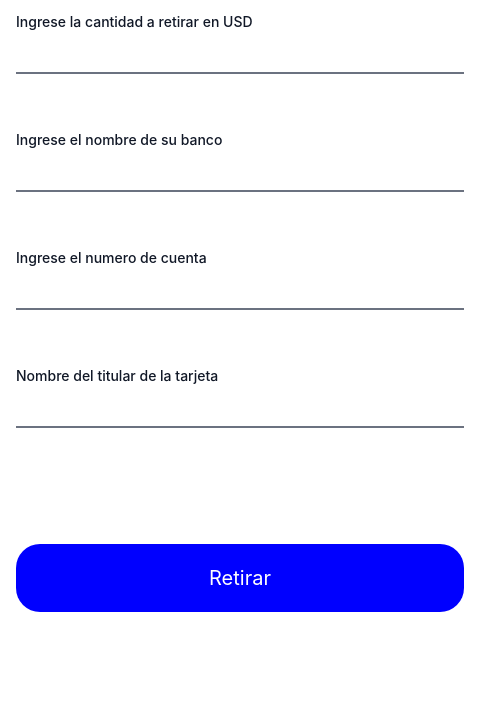
Test: WithdrawalForm › validates fields correctly when empty
This screenshot has width=481, height=709.
(page scrolled)
Click the button "Retirar".
click(240, 578)  # box [16,544,464,612]
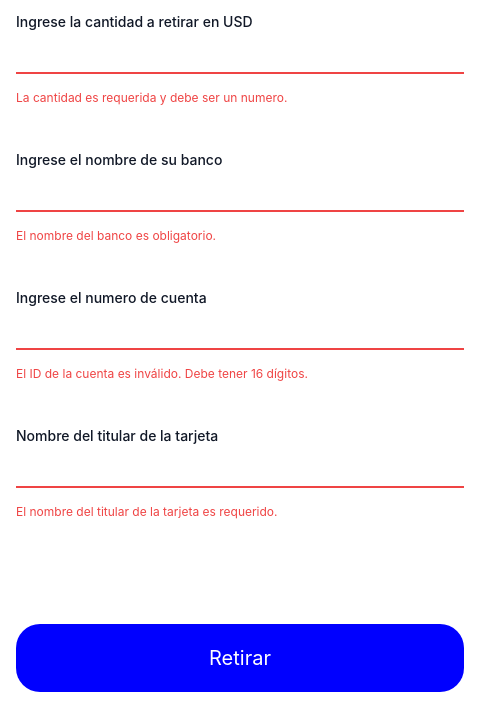
expect the text "La cantidad es requerida y debe ser un numero." is shown: met, box [16,90,287,105]
expect the text "El nombre del banco es obligatorio." is shown: met, box [16,228,216,243]
expect the text "El ID de la cuenta es inválido. Debe tener 16 dígitos." is shown: met, box [16,366,308,381]
